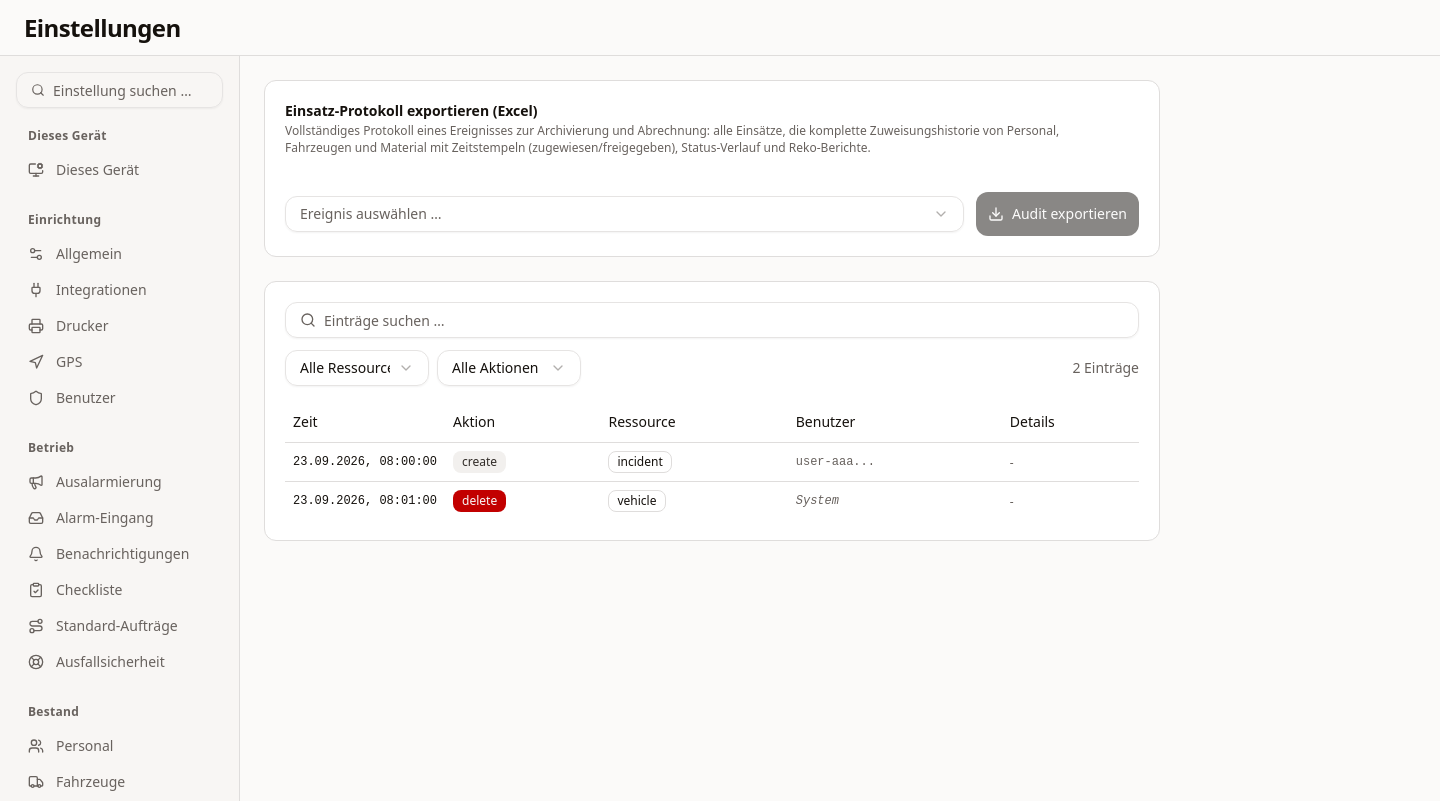
Test: Einstellungen › Audit — Filter gehen an den Server, die Suche nicht › searches the loaded rows locally, without a request
Expected: the text "2 Einträge" is shown, [1072, 358, 1139, 378]
Type "10.0.0.2" into the field with placeholder "Einträge suchen …" at (712,320), box [285, 302, 1139, 338]
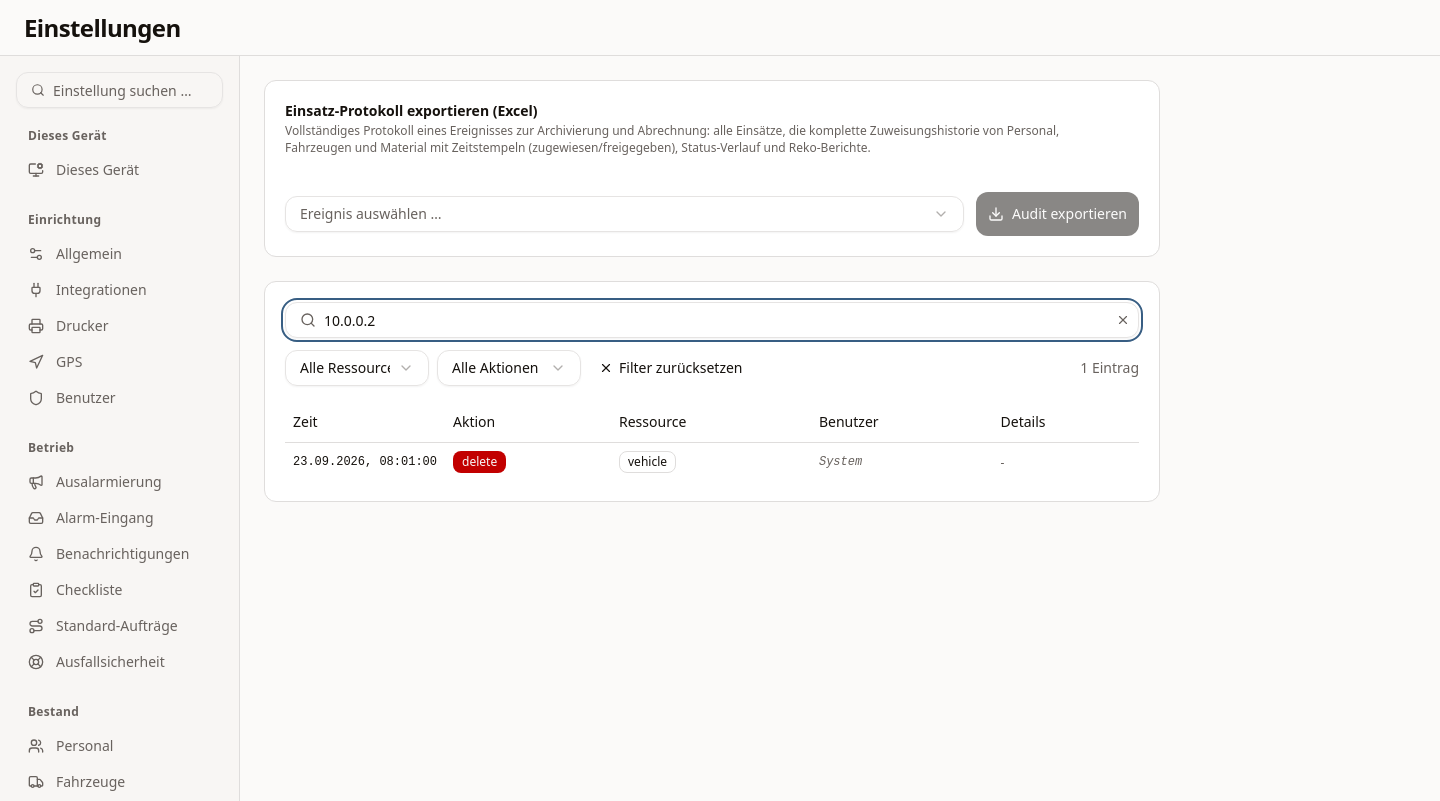
Now the text "1 Eintrag" is shown, box [1080, 358, 1139, 378]
Replace the text in the field with placeholder "Einträge suchen …" with "nothing-matches" at (712,320), box [285, 302, 1139, 338]
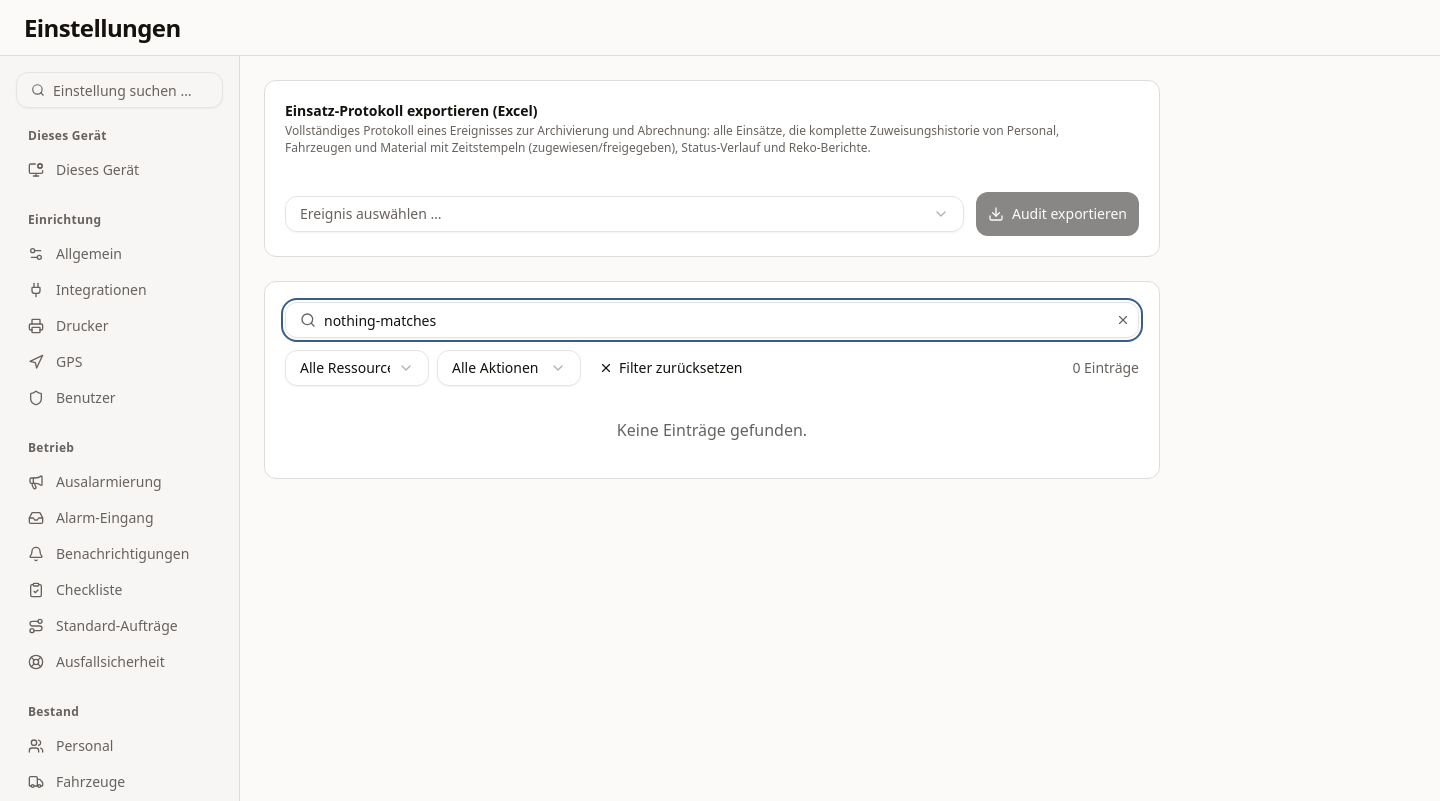
Now the text "Keine Einträge gefunden." is shown, box [617, 419, 807, 441]
